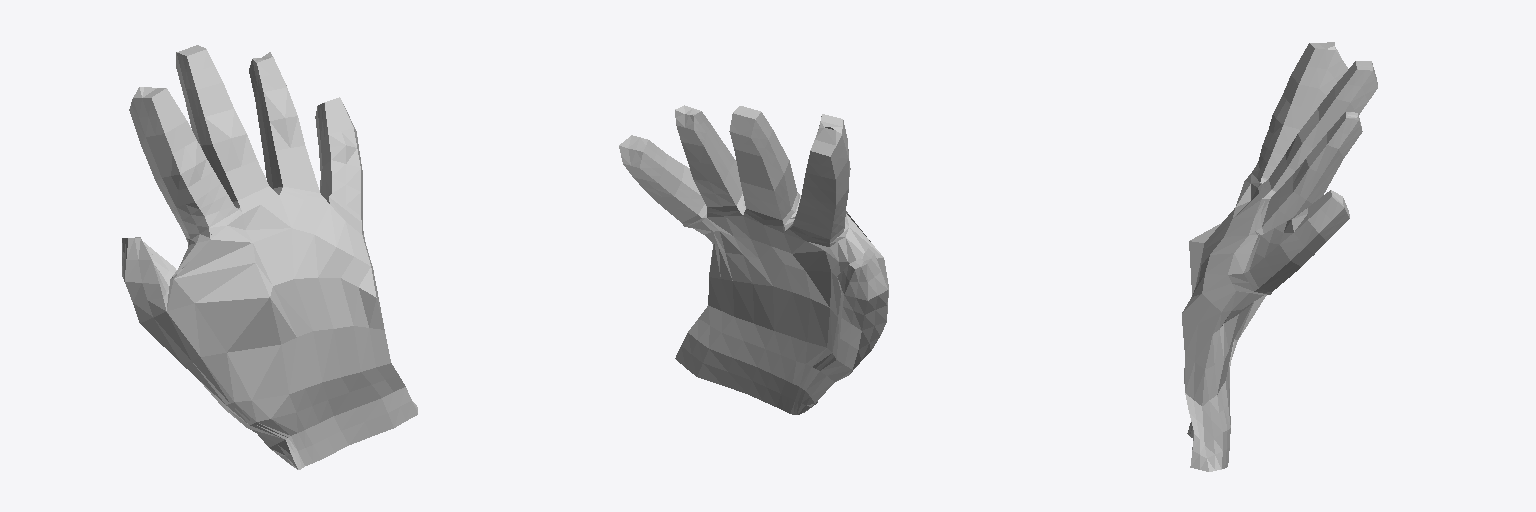
File: flexion0019.obj
3 renders of one model, left to right at view 1: azimuth 30°, elevation 25°; view 2: azimuth 150°, elevation 25°; view 3: azimuth 270°, elevation 25°, orthographic.
Visible parts, largest first — view 1: Hand; view 2: Hand; view 3: Hand.
Part boxes in pixels (x1,y1,x2,y2): Hand: (122, 45, 417, 469); Hand: (619, 105, 888, 414); Hand: (1182, 42, 1377, 471).
Size of the model in its own units: 3.27 by 4.5 by 2.21.